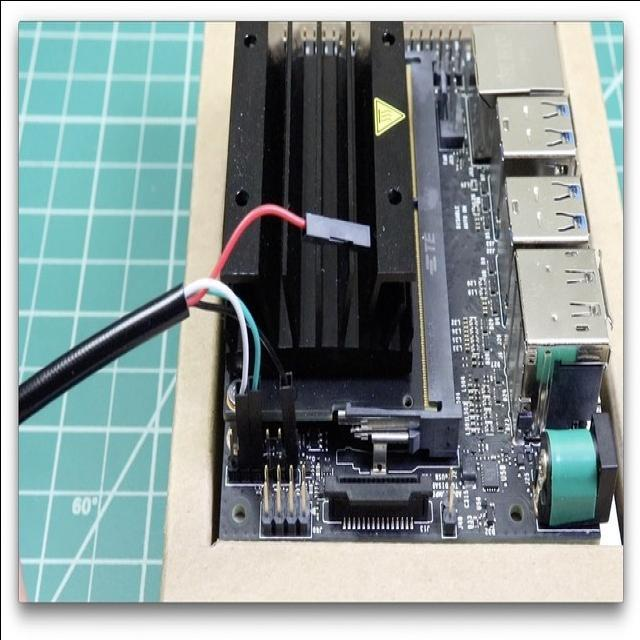Jetson Nano: (209, 20, 624, 543)
